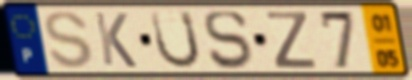7: (316, 8, 359, 70)
K: (92, 10, 140, 70)
S: (42, 9, 96, 71), (201, 8, 253, 71)
U: (147, 8, 203, 71)
Z: (264, 9, 319, 70)
